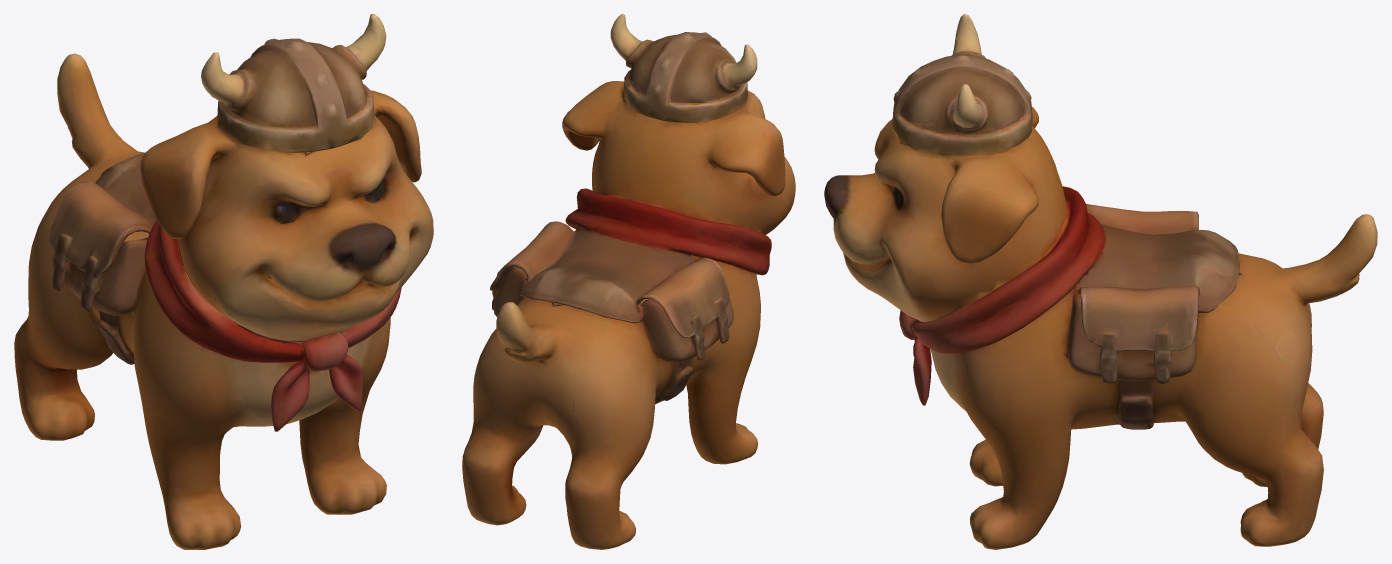
The model's file is model-dog.glb.
3 views of the same model, side by side, from view 1: azimuth 30°, elevation 25°; view 2: azimuth 150°, elevation 25°; view 3: azimuth 270°, elevation 25° (orthographic). The views are drawn at different scales.
Visible parts, largest first — view 1: geometry_0; view 2: geometry_0; view 3: geometry_0.
Part boxes in pixels (<box>): geometry_0: <box>14,14,433,549</box>; geometry_0: <box>462,14,795,549</box>; geometry_0: <box>824,14,1377,549</box>.
Bounding box in the file's own units: 0.5029 × 0.9163 × 1.
Materials: 1 (1 with a texture image).
